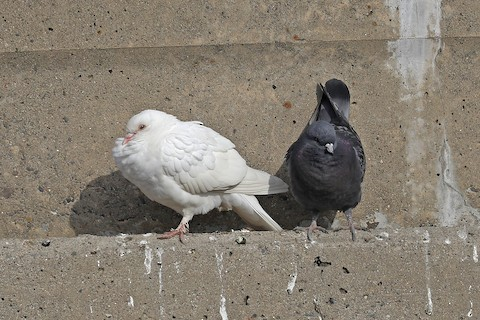pigeon: (112, 101, 294, 244), (274, 75, 374, 241)
